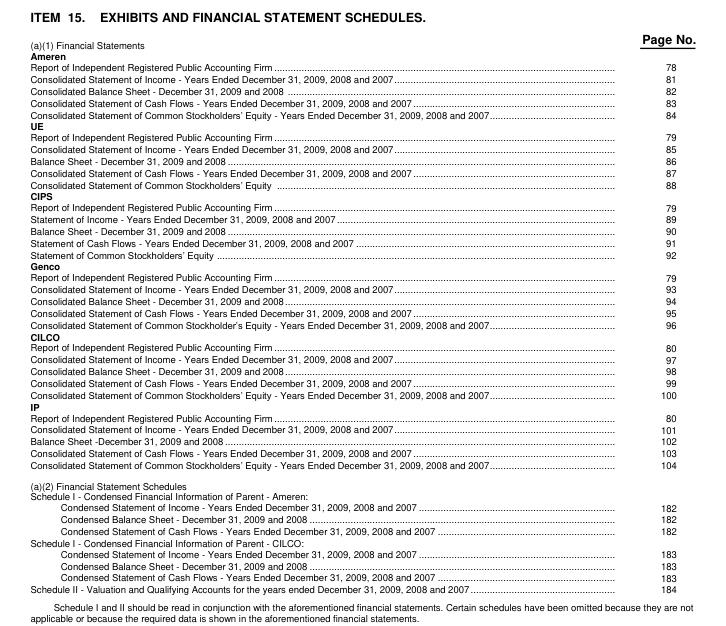table: (29, 29, 695, 595)
table column: (29, 29, 564, 595), (564, 29, 695, 595)
table column header: (29, 29, 695, 49)
table projected row header: (29, 474, 695, 490), (29, 49, 695, 61), (29, 119, 695, 131), (29, 189, 695, 201), (29, 259, 695, 271), (29, 330, 695, 341), (29, 400, 695, 411), (29, 490, 695, 501), (29, 536, 695, 547)
table row: (29, 29, 695, 49), (29, 458, 695, 474), (29, 474, 695, 490), (29, 582, 695, 595), (29, 49, 695, 61), (29, 72, 695, 84), (29, 84, 695, 96), (29, 96, 695, 108), (29, 119, 695, 131), (29, 142, 695, 154), (29, 154, 695, 166), (29, 166, 695, 178), (29, 189, 695, 201), (29, 212, 695, 224), (29, 224, 695, 236), (29, 236, 695, 248), (29, 259, 695, 271), (29, 282, 695, 294), (29, 294, 695, 306), (29, 306, 695, 318), (29, 318, 695, 330), (29, 352, 695, 364), (29, 364, 695, 376), (29, 376, 695, 388), (29, 388, 695, 400), (29, 422, 695, 434), (29, 434, 695, 446), (29, 446, 695, 458), (29, 512, 695, 524), (29, 524, 695, 536), (29, 547, 695, 559), (29, 570, 695, 582), (29, 61, 695, 72), (29, 108, 695, 119), (29, 131, 695, 142), (29, 178, 695, 189), (29, 201, 695, 212), (29, 248, 695, 259), (29, 271, 695, 282), (29, 330, 695, 341), (29, 341, 695, 352), (29, 400, 695, 411), (29, 411, 695, 422), (29, 490, 695, 501), (29, 501, 695, 512), (29, 536, 695, 547), (29, 559, 695, 570)
